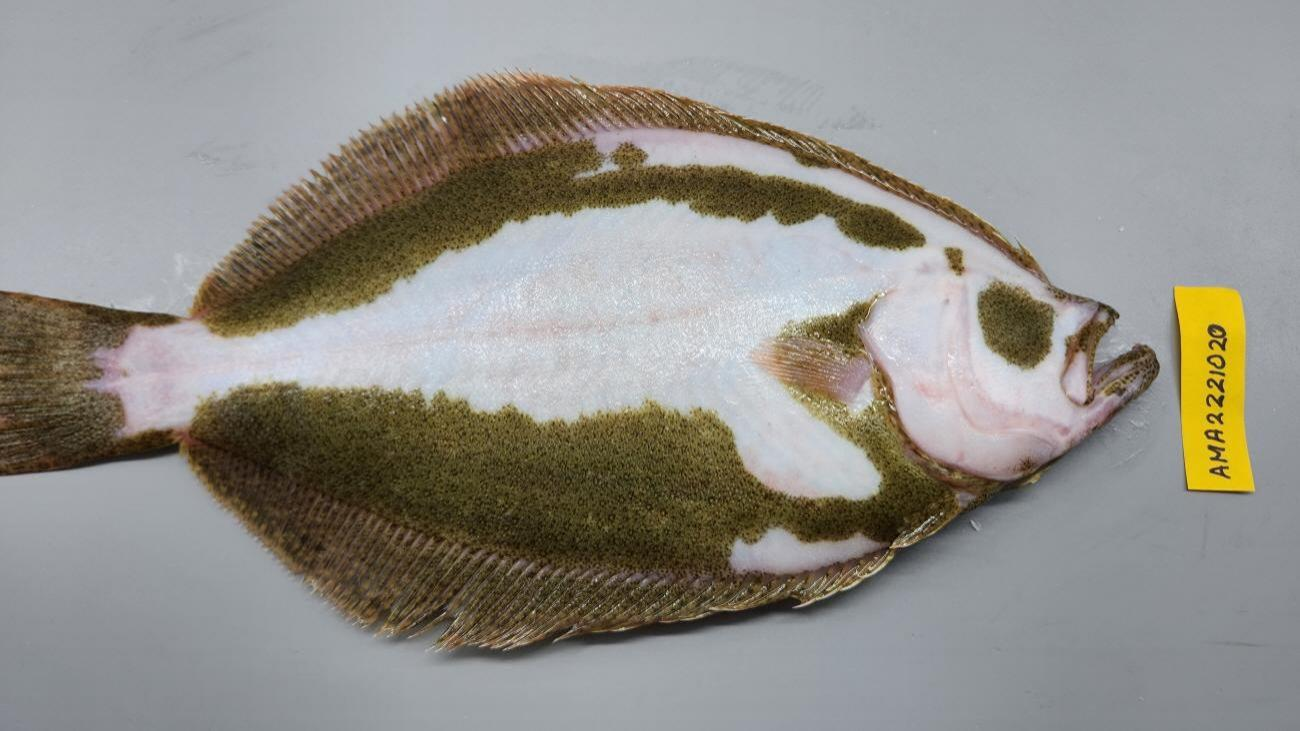MAFDH: (193, 75, 1036, 318)
